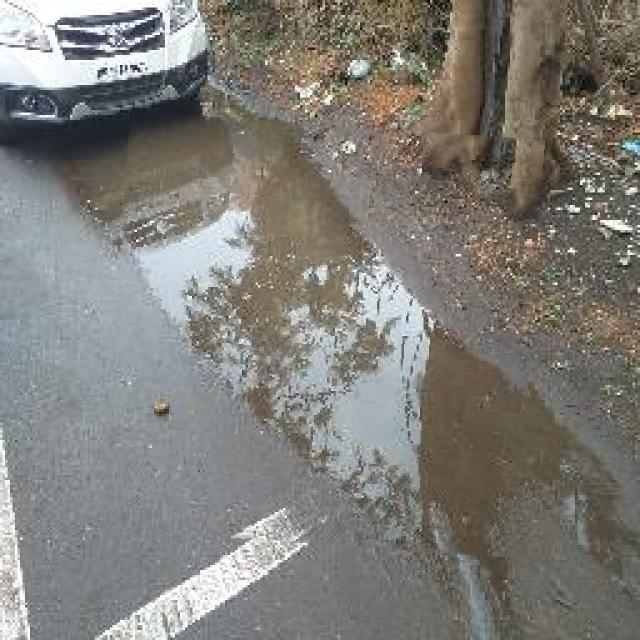puddle: (109, 119, 539, 552)
